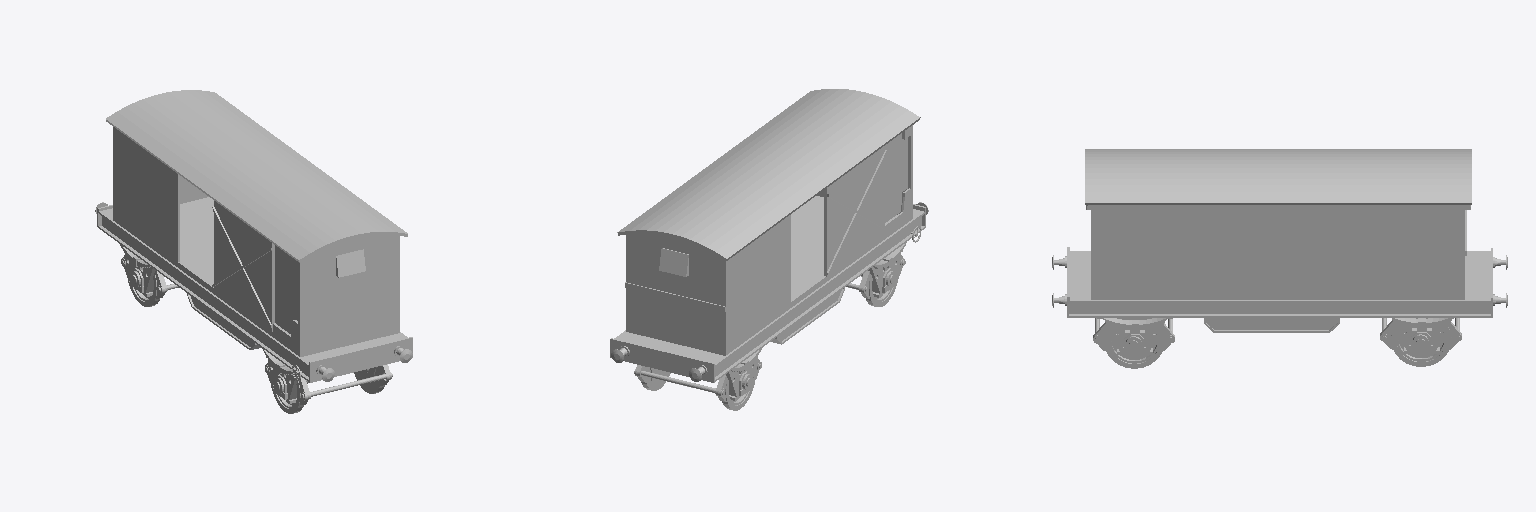
Rendered from truck.obj.
3 views of the same model, side by side, from view 1: azimuth 30°, elevation 25°; view 2: azimuth 150°, elevation 25°; view 3: azimuth 270°, elevation 25° (orthographic).
Visible parts, largest first — view 1: Group_001, Group_005, Component_1_007, Component_1_001, Component_1_010; view 2: Group_001, Group_005, Component_1_001, Component_1_007, Component_1_004; view 3: Group_001, Component_1_010, Component_1_004.
Boxes of the visible parts, x1,y1,x2,y2 form: Group_001: [97, 90, 412, 382]; Group_005: [212, 201, 297, 333]; Component_1_007: [262, 348, 347, 413]; Component_1_001: [120, 244, 178, 306]; Component_1_010: [346, 364, 392, 393]; Group_001: [610, 89, 925, 382]; Group_005: [824, 133, 907, 276]; Component_1_001: [678, 348, 761, 410]; Component_1_007: [846, 242, 906, 306]; Component_1_004: [634, 365, 679, 390]; Group_001: [1067, 149, 1492, 332]; Component_1_010: [1093, 318, 1174, 368]; Component_1_004: [1380, 318, 1461, 366].
Size of the model in its own units: 606 by 970 by 2179.